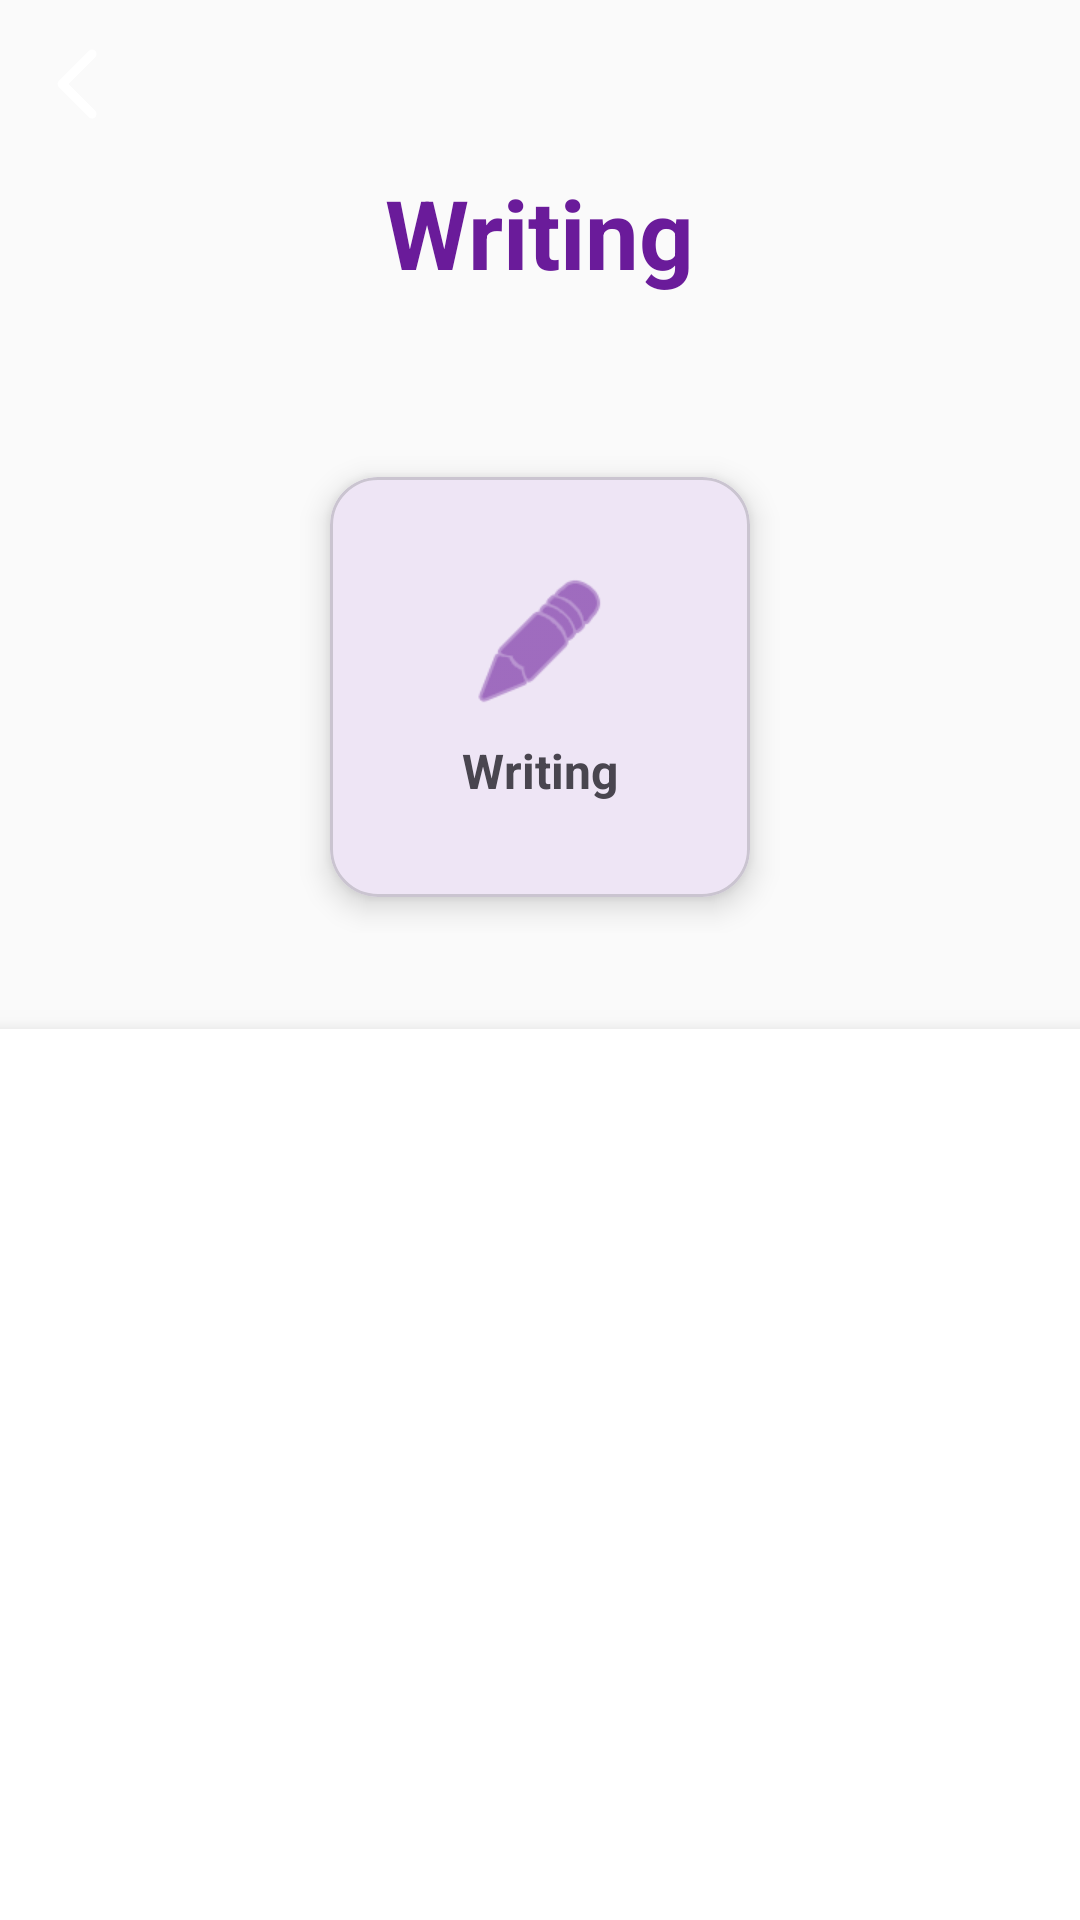

Where to tap for icons on this 1080*1920 app screen, as (x=x, y=y):
edit: (x=539, y=641)
